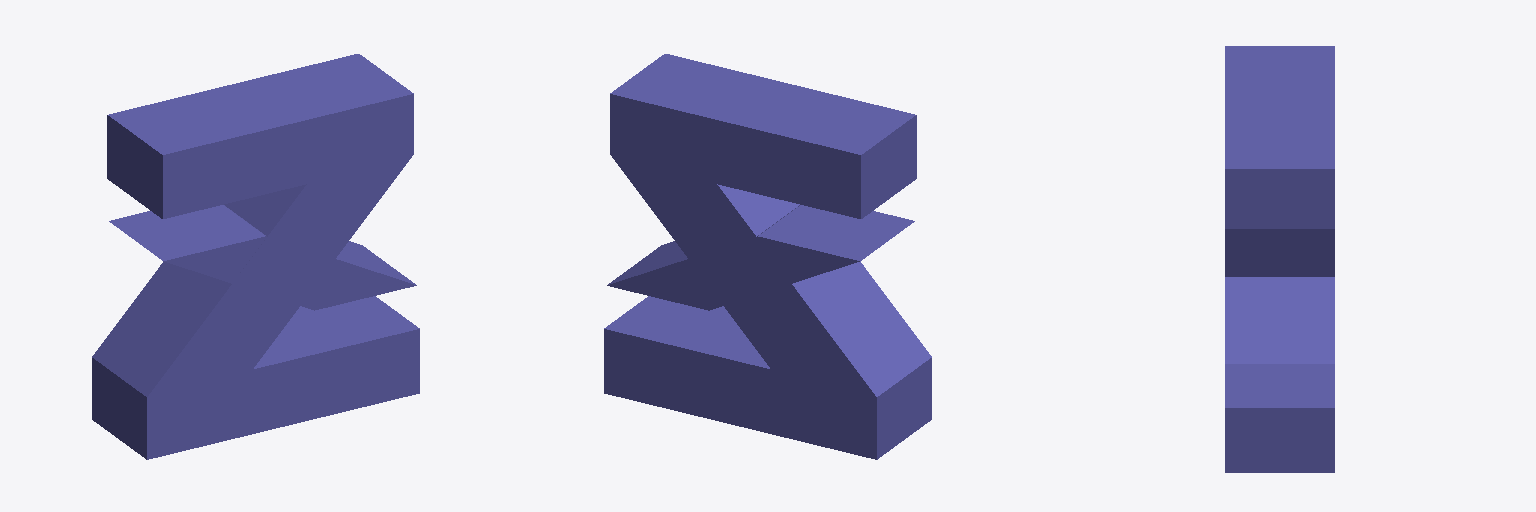
3 views of the same model, side by side, from view 1: azimuth 30°, elevation 25°; view 2: azimuth 150°, elevation 25°; view 3: azimuth 270°, elevation 25° (orthographic).
Parts seen in each view (by area): view 1: テキスト; view 2: テキスト; view 3: テキスト.
Boxes of the visible parts, x1=… form: テキスト: x1=92, y1=54, x2=419, y2=459; テキスト: x1=604, y1=54, x2=931, y2=459; テキスト: x1=1225, y1=46, x2=1334, y2=472.
Bounding box in the file's own units: 2.08 × 2.19 × 0.7276.
1 materials, 1 textured.